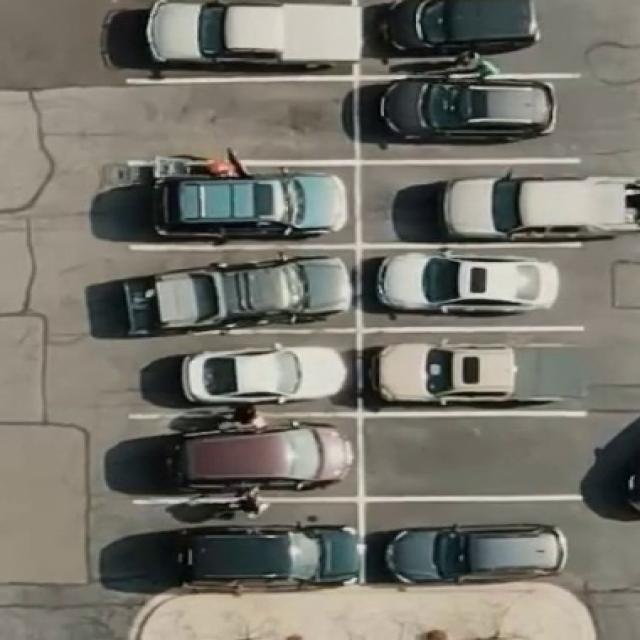empty: (369, 418, 576, 491), (128, 88, 348, 155)
notEmpty: (132, 420, 355, 494), (140, 512, 356, 586), (369, 336, 593, 406), (130, 172, 354, 241), (136, 3, 349, 74), (134, 256, 352, 325), (364, 85, 576, 155), (138, 338, 352, 407), (368, 170, 586, 237), (366, 254, 577, 320), (377, 508, 572, 578), (374, 4, 575, 71)
